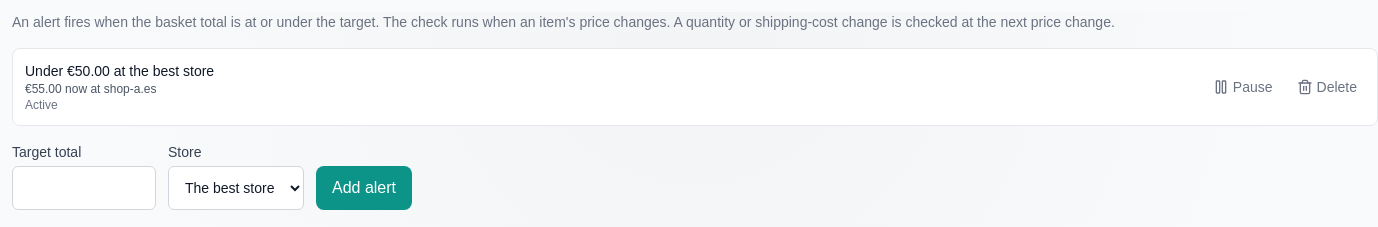
it: BasketAlerts › should pause an active alert when Pause is clicked
Click the button with aria-label "Pause alert" at coordinates (1243, 87), box [1205,65,1280,109]
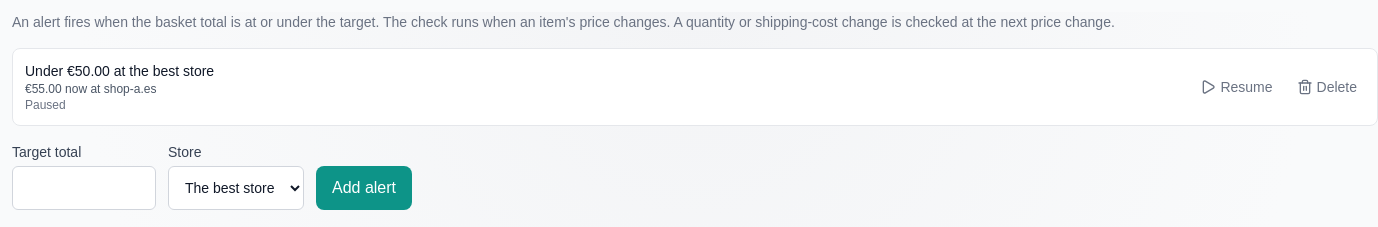
Now the button with aria-label "Resume alert" is shown, box [1192,65,1280,109]
Now the text "Paused" is shown, box [25,98,66,112]
